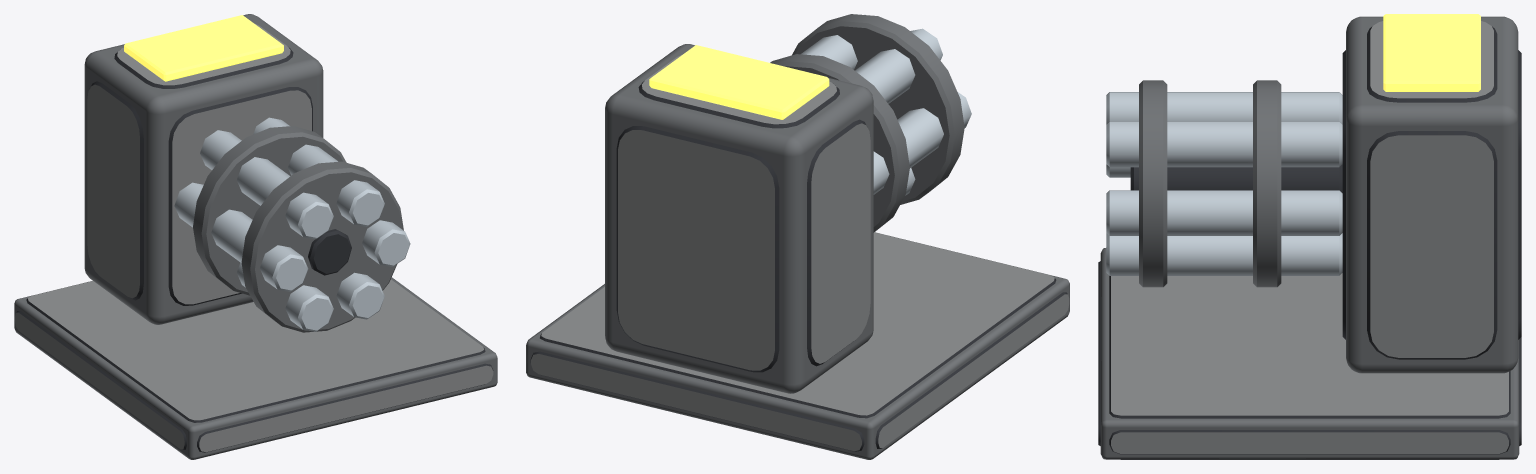
Rendered from R4X_RapidFire.glb.
3 renders of one model, left to right at view 1: azimuth 30°, elevation 25°; view 2: azimuth 150°, elevation 25°; view 3: azimuth 270°, elevation 25°, orthographic. The views are drawn at different scales.
Parts seen in each view (by area): view 1: R4X_RapidFire_Body, R4X_RapidFire_Barrels; view 2: R4X_RapidFire_Body, R4X_RapidFire_Barrels; view 3: R4X_RapidFire_Body, R4X_RapidFire_Barrels.
Boxes of the visible parts, x1,y1,x2,y2 form: R4X_RapidFire_Body: [14, 14, 497, 459]; R4X_RapidFire_Barrels: [174, 117, 410, 332]; R4X_RapidFire_Body: [526, 44, 1069, 459]; R4X_RapidFire_Barrels: [770, 14, 971, 232]; R4X_RapidFire_Body: [1098, 14, 1521, 459]; R4X_RapidFire_Barrels: [1106, 80, 1342, 287].
Bounding box in the file's own units: 0.52 × 0.445 × 0.52.
